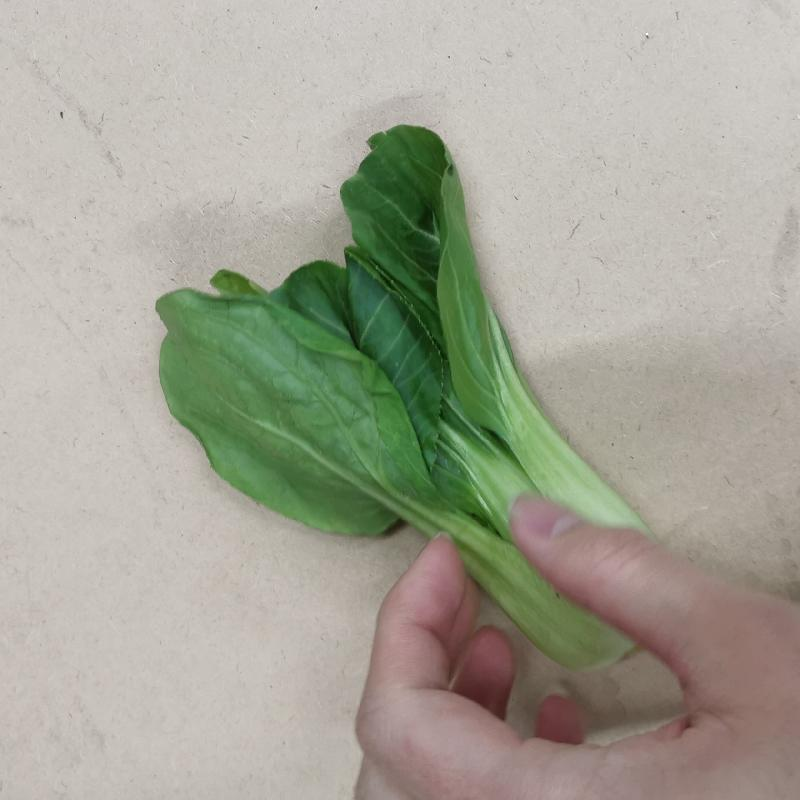green vegatable: (152, 119, 586, 499)
